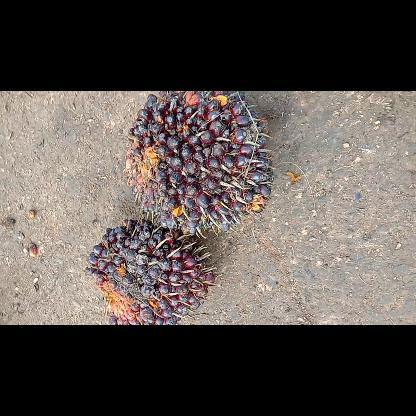Kurang masak: (120, 90, 276, 238), (82, 216, 216, 324)
